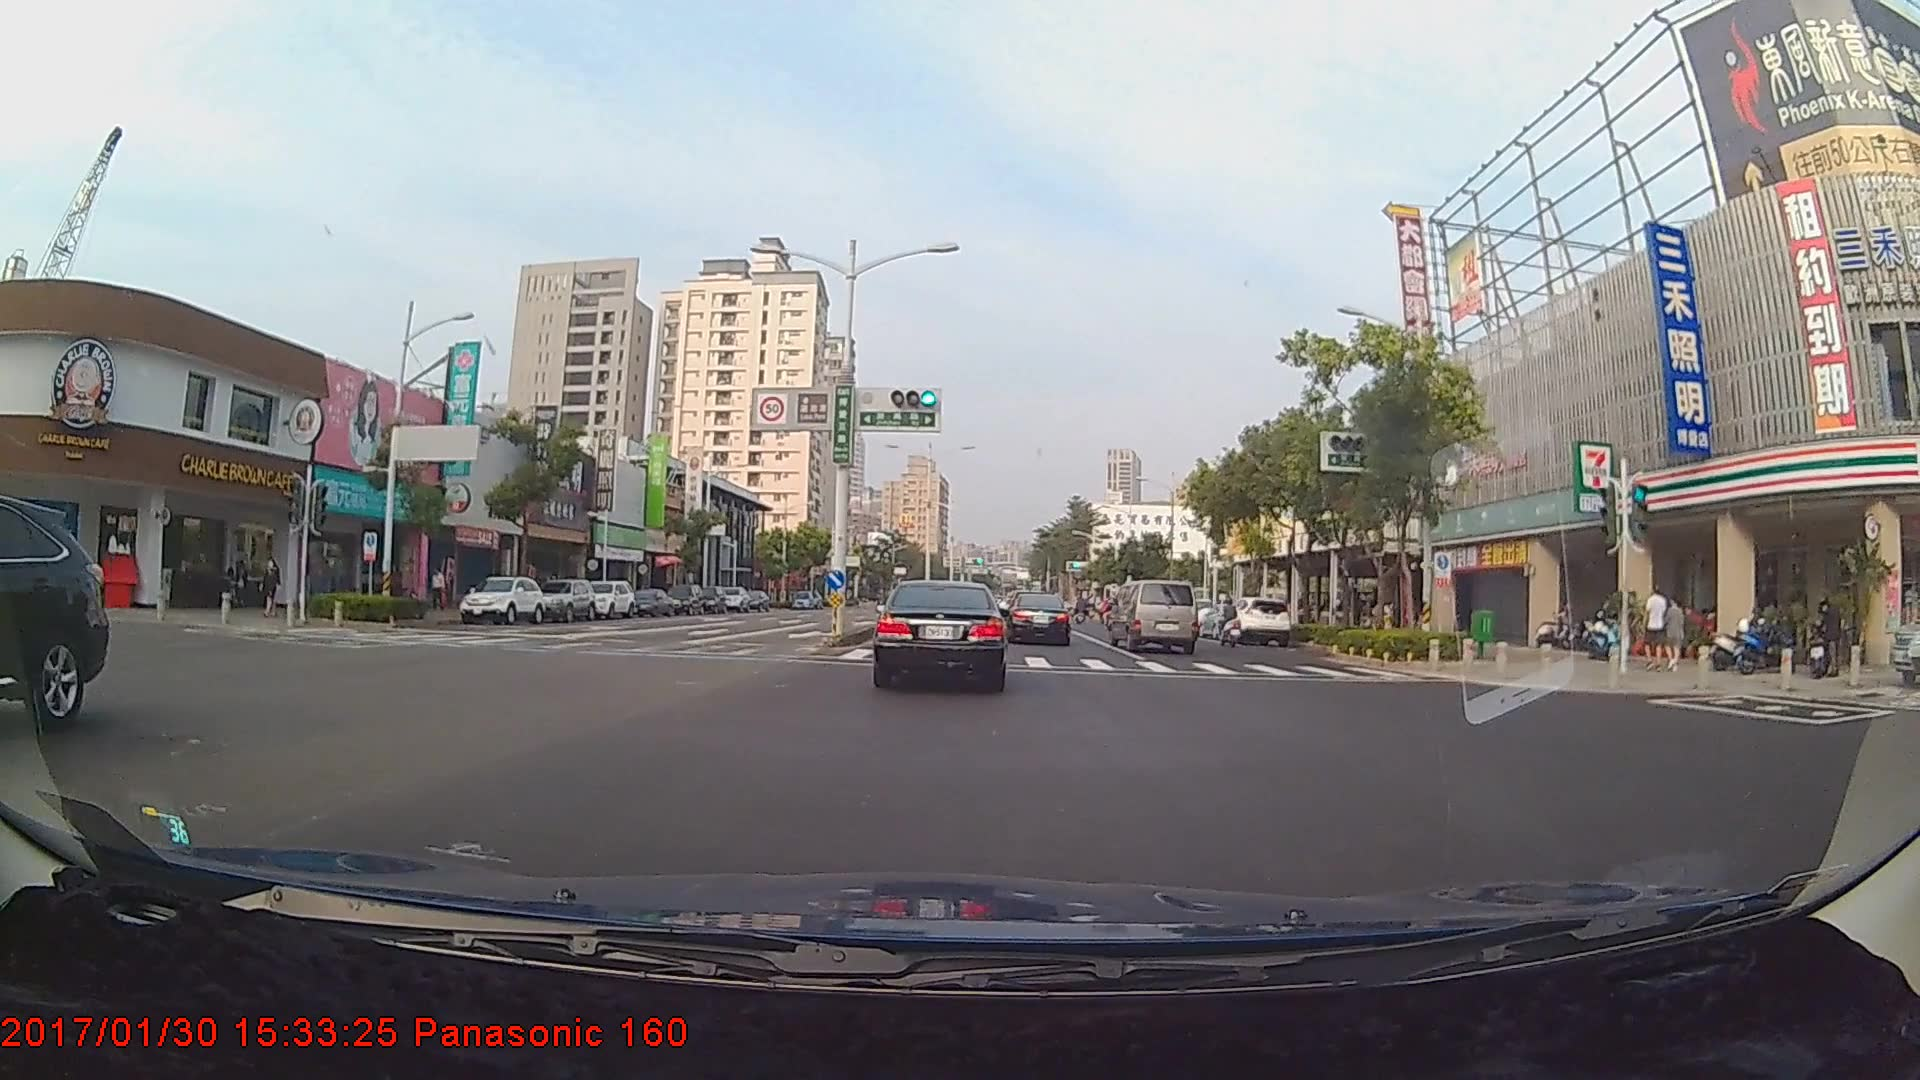pedestrian: (1637, 579, 1666, 675), (1662, 595, 1688, 672), (263, 559, 283, 621), (430, 567, 450, 613)
rider: (1211, 597, 1244, 650)
vehicle: (0, 497, 108, 733), (872, 577, 1006, 691), (1110, 579, 1199, 653), (455, 572, 547, 623), (1002, 591, 1072, 647), (1219, 594, 1290, 645), (535, 578, 597, 622), (583, 578, 637, 621), (662, 582, 707, 614), (627, 588, 672, 617)
